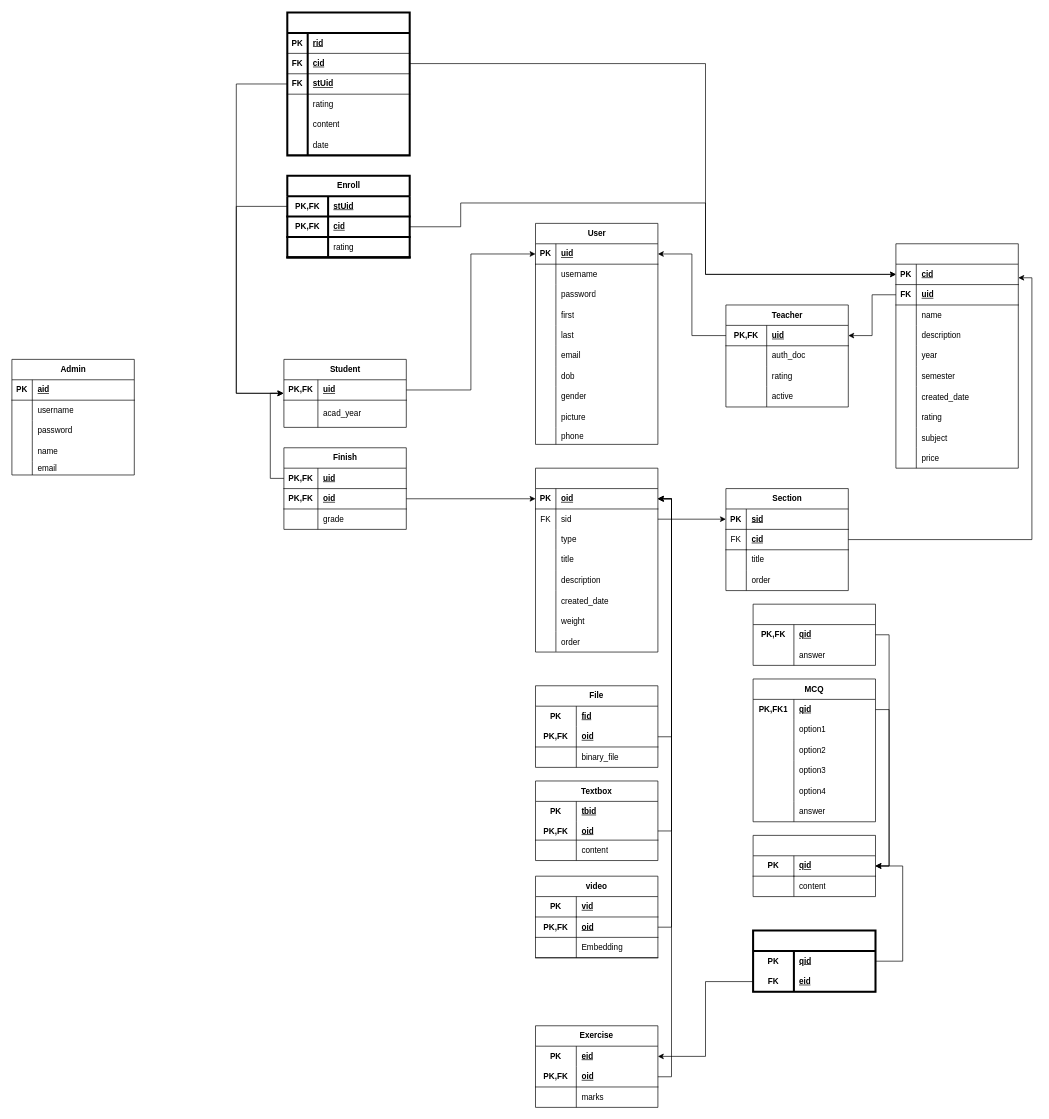
The diagram is 1049 pixels wide and 1119 high, and some of its shapes have lost their labels. The shapes that lost their labels are listed below. From the top down, each one's box as (x1, y1, x2, y2) in pixels, then its label:
(286, 11, 410, 156): Review
(895, 243, 1018, 468): Course
(535, 468, 658, 652): Object
(752, 604, 876, 665): Writing
(752, 835, 876, 897): Question
(752, 929, 876, 992): ex_qn
